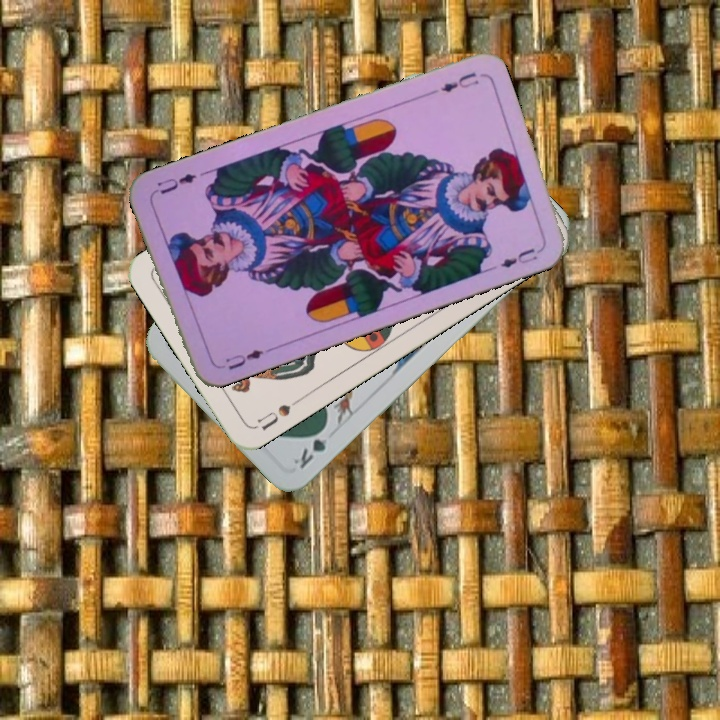EU: (221, 345, 267, 373), (437, 68, 482, 95)
GK: (289, 421, 330, 471)
SU: (253, 394, 304, 434)
